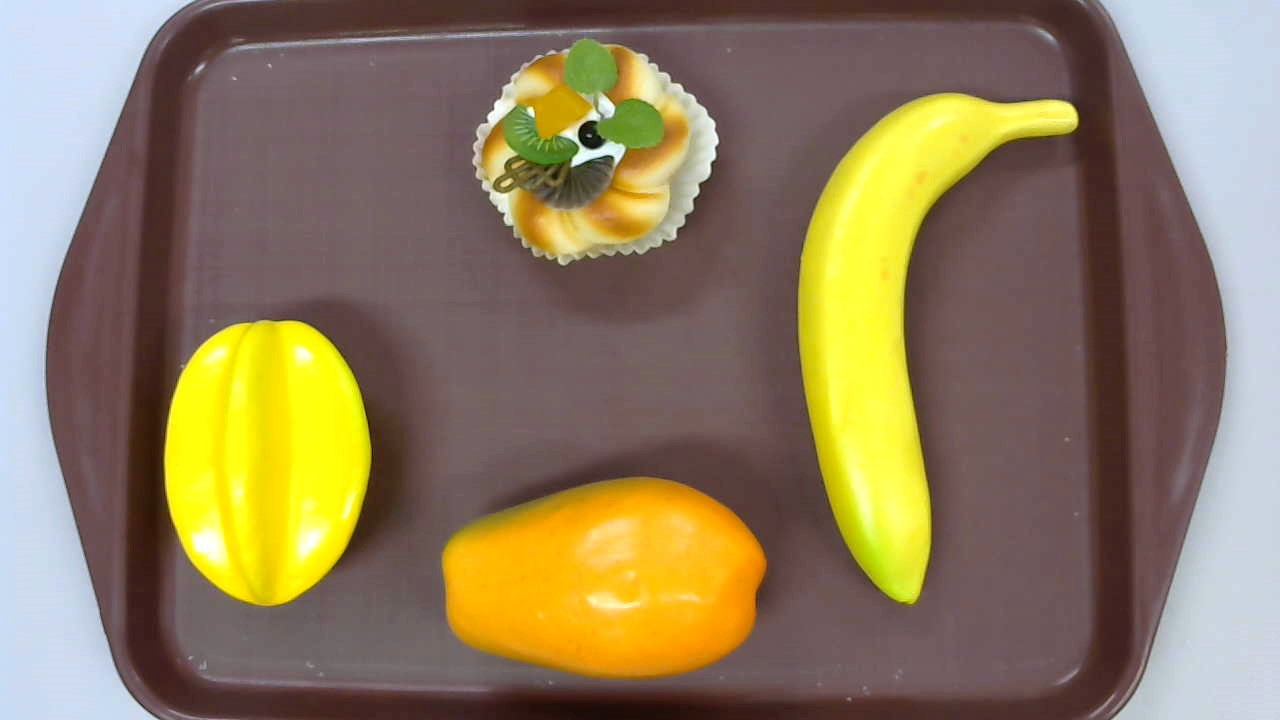banana: (797, 91, 1078, 608)
fruit tart: (472, 37, 722, 268)
papya: (441, 476, 769, 679)
star fruit: (163, 318, 371, 606)
